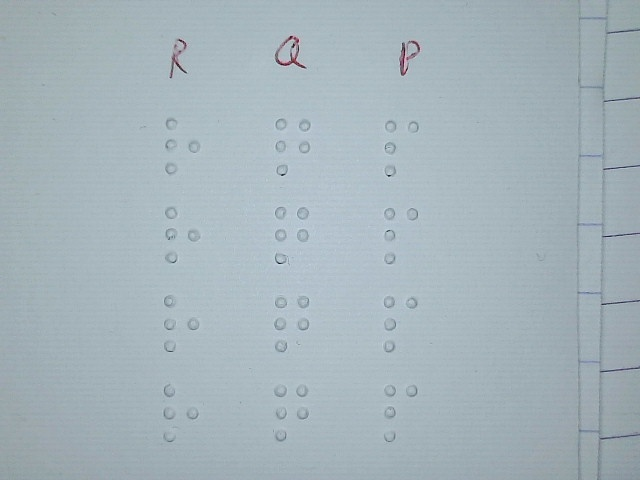P: (383, 118, 420, 177), (382, 205, 419, 264), (382, 294, 419, 353), (382, 383, 419, 442)
Q: (274, 116, 311, 175), (273, 205, 310, 264), (273, 293, 310, 352), (272, 382, 309, 441)
R: (162, 382, 199, 443), (164, 116, 201, 175), (164, 204, 201, 263), (163, 292, 200, 351)
